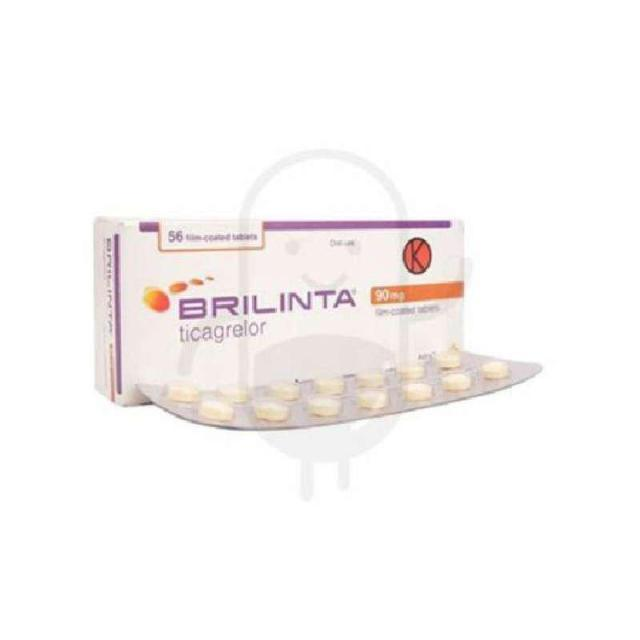drug-name: (178, 288, 364, 323)
